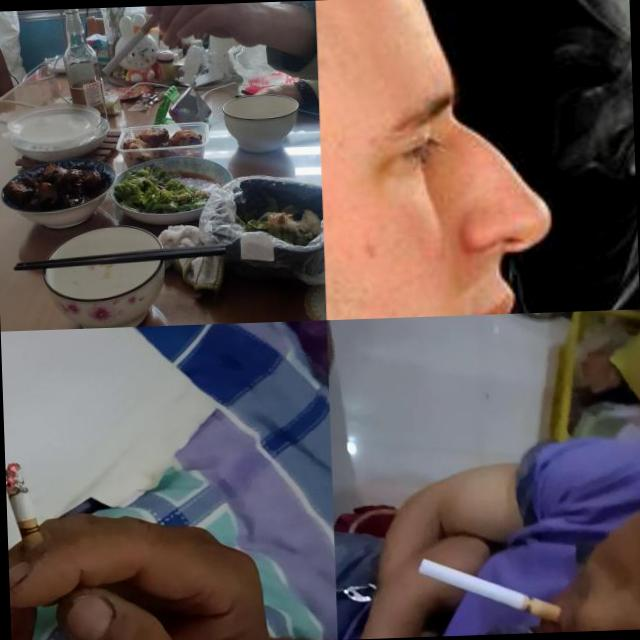smoke: (417, 550, 564, 628), (4, 460, 48, 570), (100, 7, 167, 75)
